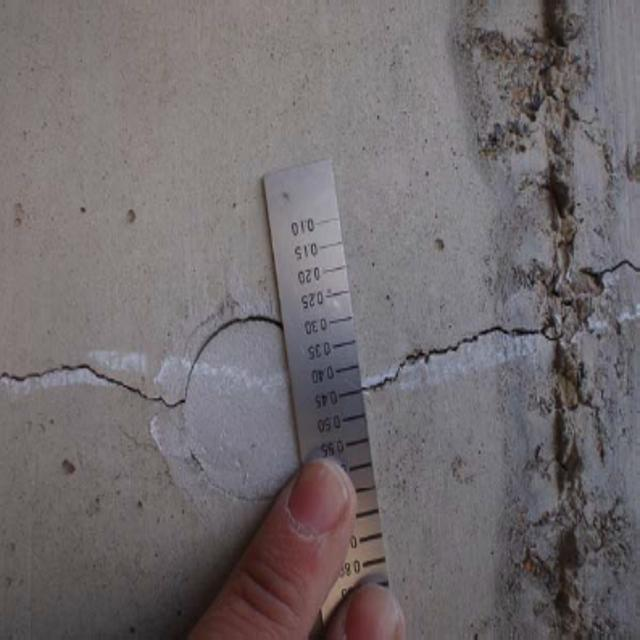crack: (364, 257, 636, 397), (6, 334, 181, 419)
